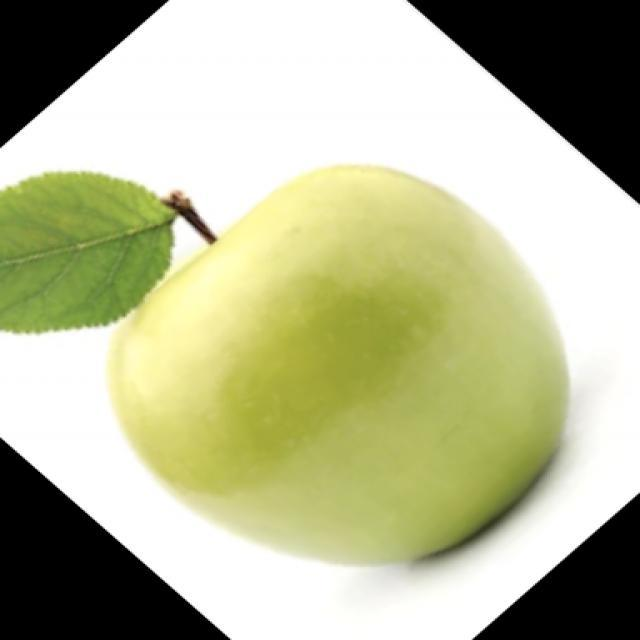Fresh Apple: (104, 185, 558, 562)
